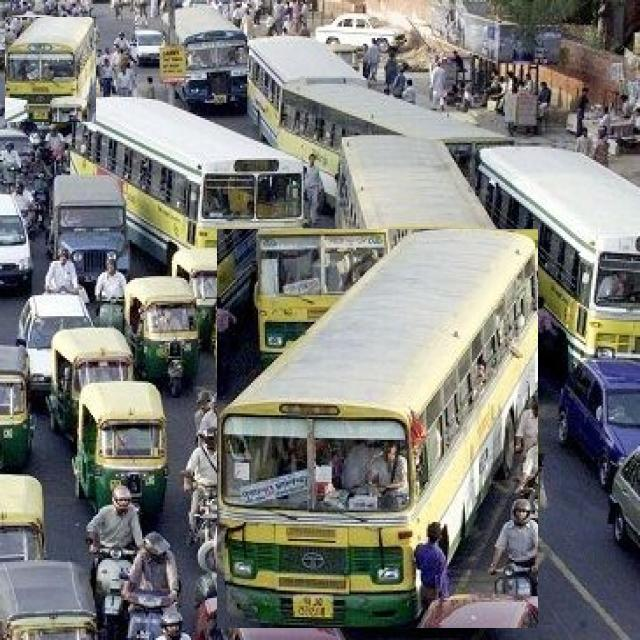autorickshaw: (72, 382, 168, 514), (50, 329, 132, 441), (125, 277, 198, 386)
bus: (218, 230, 538, 628), (71, 102, 302, 261), (338, 136, 500, 355), (476, 148, 640, 359), (5, 17, 96, 122)
car: (51, 175, 129, 286)
motorcycle: (86, 485, 142, 639)
